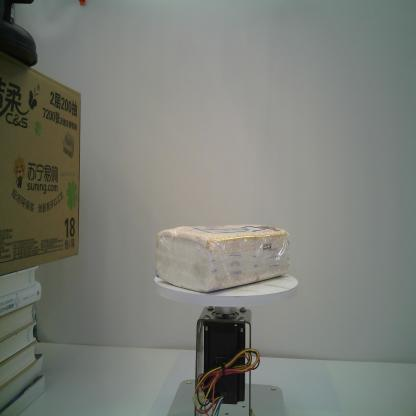Tissue: (155, 223, 290, 293)
